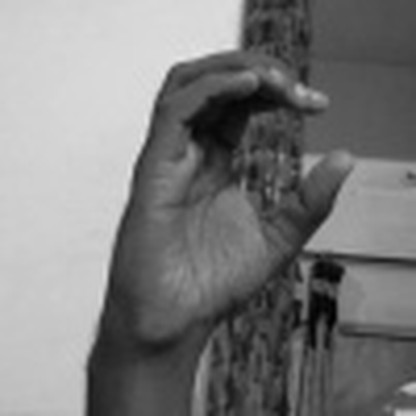c: (126, 27, 357, 325)
